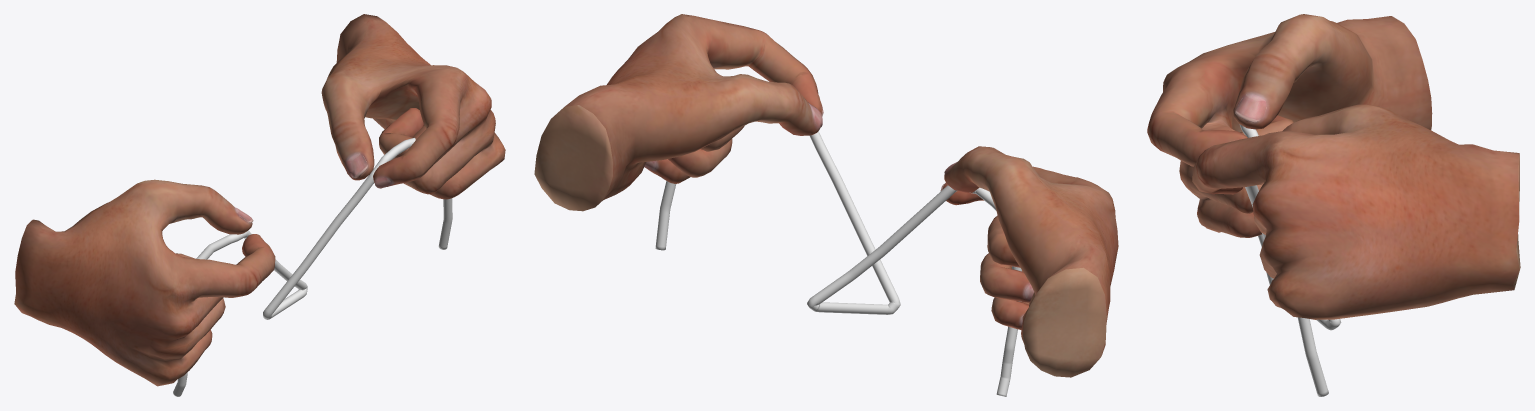
Rendered from mfk_part1_assi_tension.fbx.
3 views of the same model, side by side, from view 1: azimuth 30°, elevation 25°; view 2: azimuth 150°, elevation 25°; view 3: azimuth 270°, elevation 25° (orthographic). The views are drawn at different scales.
Visible parts, largest first — view 1: Hand_R, Hand_L, faden_L, faden_R; view 2: Hand_L, Hand_R, faden_R, faden_L; view 3: Hand_L, Hand_R, faden_L, faden_R.
Part boxes in pixels (left/top/right/bottom): Hand_R: left=14, top=179, right=275, bottom=386; Hand_L: left=321, top=14, right=505, bottom=199; faden_L: left=263, top=138, right=452, bottom=319; faden_R: left=173, top=230, right=307, bottom=396; Hand_L: left=534, top=14, right=823, bottom=211; Hand_R: left=940, top=146, right=1118, bottom=377; faden_R: left=807, top=185, right=1021, bottom=396; faden_L: left=655, top=131, right=900, bottom=314; Hand_L: left=1192, top=104, right=1520, bottom=319; Hand_R: left=1147, top=14, right=1432, bottom=237; faden_L: left=1245, top=185, right=1328, bottom=396; faden_R: left=1239, top=124, right=1341, bottom=330.
Size of the model in its own units: 35.41 by 19.3 by 19.08.
